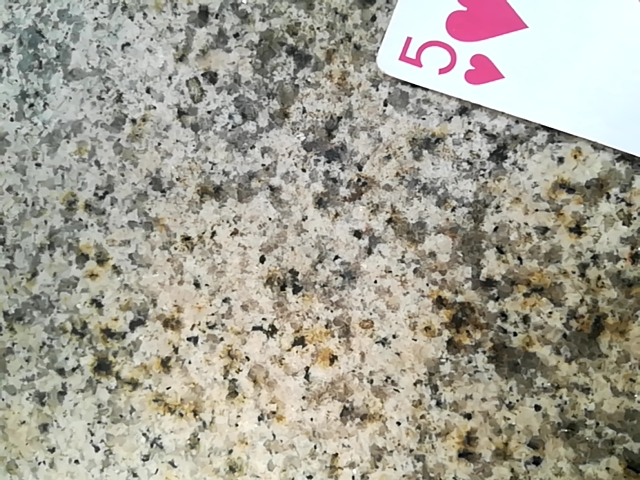hx 5: (378, 0, 640, 229)
